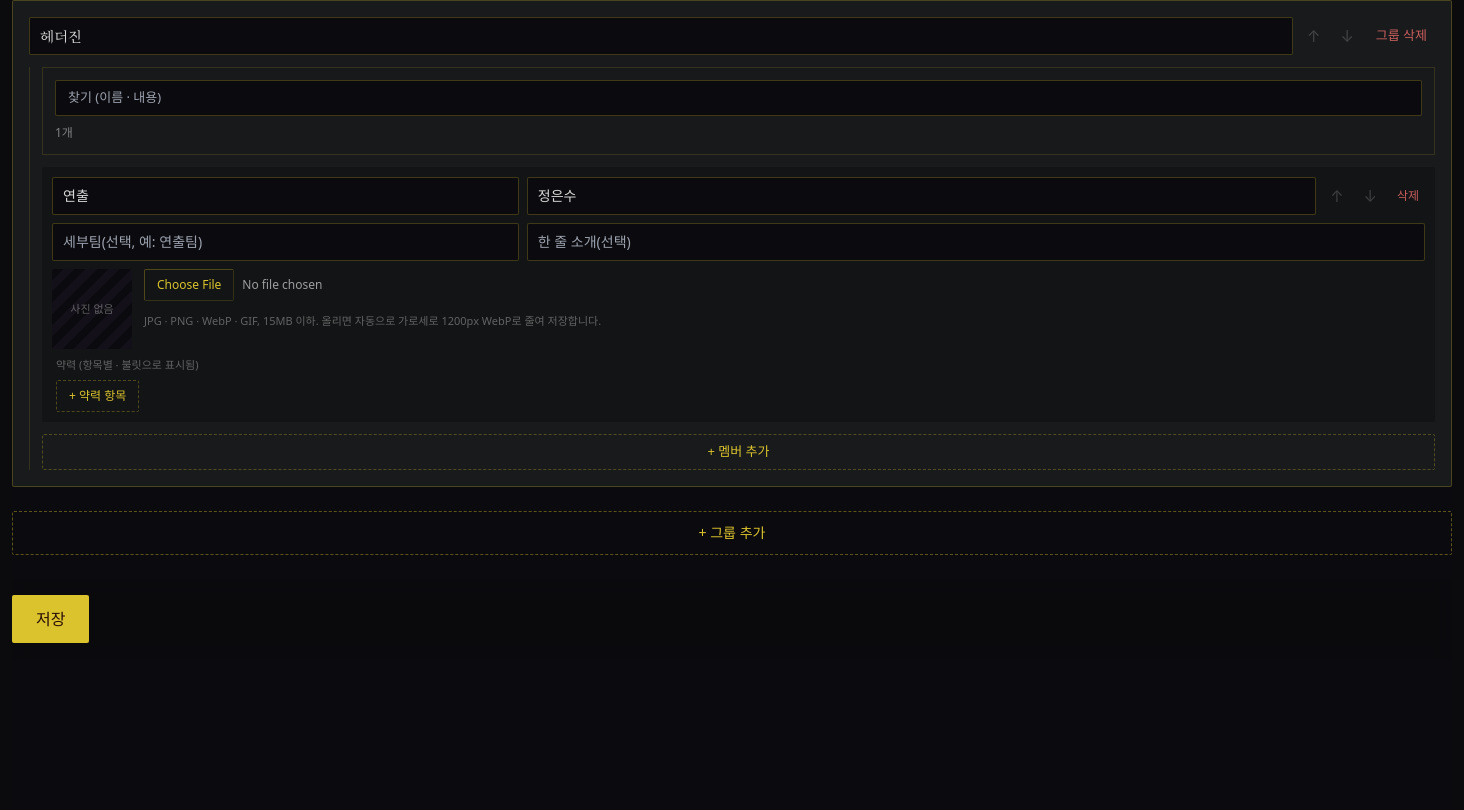
Scenario: PeopleEditor › 그룹 추가가 동작한다
The width and height of the screenshot is (1464, 810).
Expected: the number of fields named "그룹 이름" is 1, [29,17,1293,55]
Click the button "+ 그룹 추가": (732, 532) [12,510,1452,554]
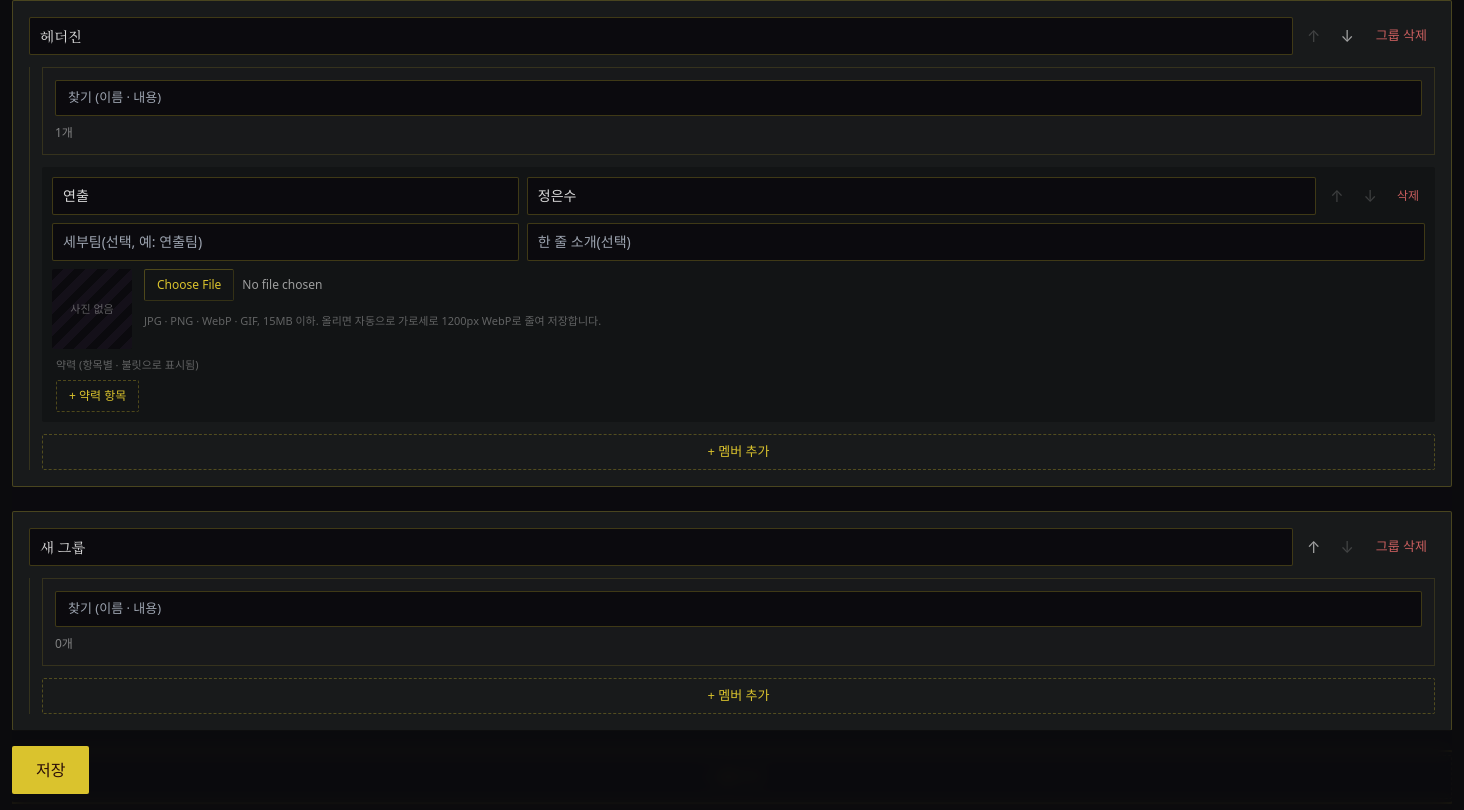
Result: the number of fields named "그룹 이름" is 2 at [29,17,1293,55]; [29,528,1293,566]
